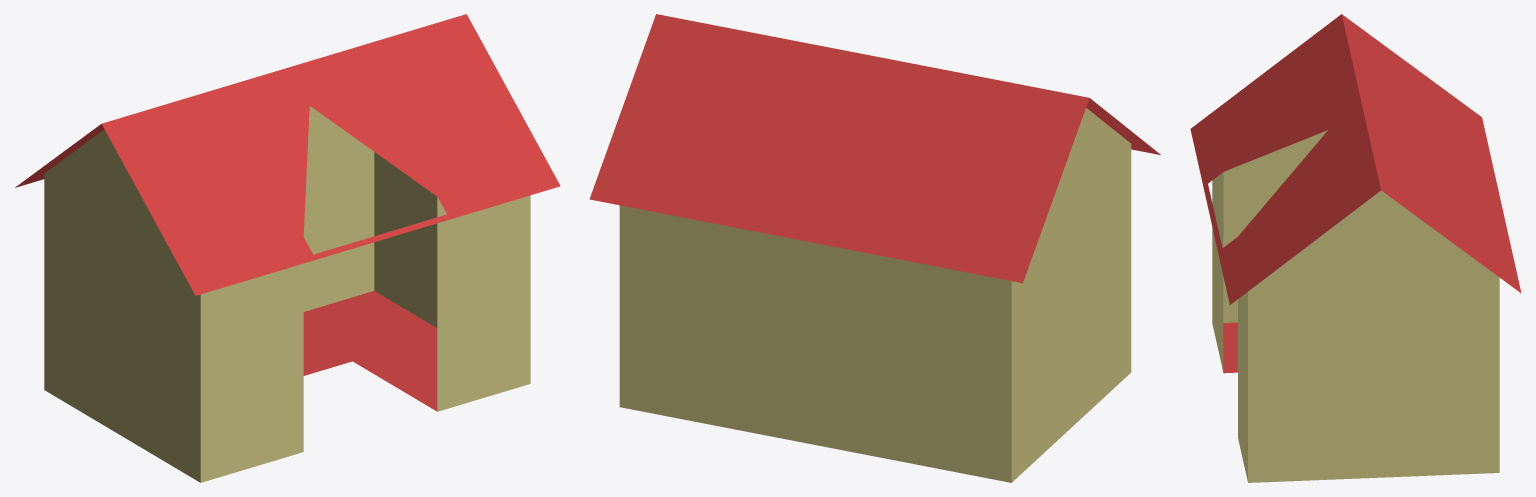
3 renders of one model, left to right at view 1: azimuth 30°, elevation 25°; view 2: azimuth 150°, elevation 25°; view 3: azimuth 270°, elevation 25°, orthographic. The views are drawn at different scales.
Bounding box in the file's own units: 16.59 × 12.35 × 12.17.
